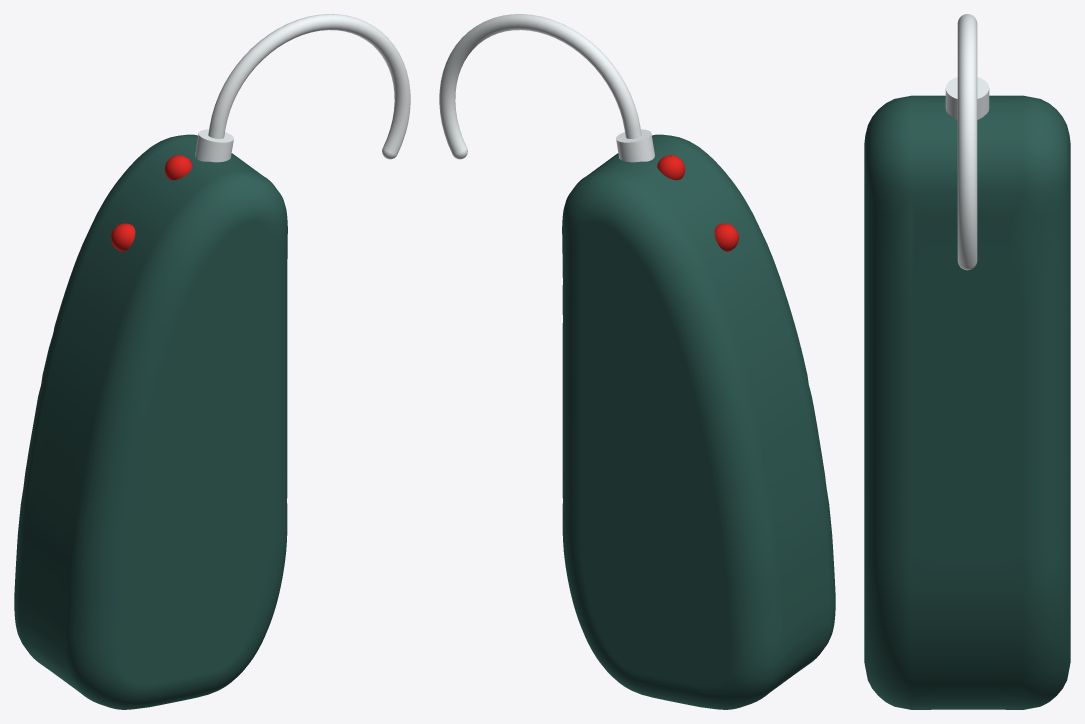
The model's file is equipo_AUDEO_ISPHERE.glb.
The picture shows the model from 3 angles, left to right: view 1: azimuth 30°, elevation 25°; view 2: azimuth 150°, elevation 25°; view 3: azimuth 270°, elevation 25°; orthographic projection. The views are drawn at different scales.
Visible parts, largest first — view 1: equipo_unidad, equipo_bateria, equipo_gancho, equipo_microfonos; view 2: equipo_unidad, equipo_bateria, equipo_gancho, equipo_microfonos; view 3: equipo_unidad, equipo_bateria, equipo_gancho.
Boxes of the visible parts, bbox=[...] form: equipo_unidad: bbox=[25, 134, 287, 524]; equipo_bateria: bbox=[14, 476, 287, 709]; equipo_gancho: bbox=[195, 14, 410, 162]; equipo_microfonos: bbox=[111, 155, 192, 251]; equipo_unidad: bbox=[562, 134, 824, 524]; equipo_bateria: bbox=[562, 476, 835, 709]; equipo_gancho: bbox=[439, 14, 654, 162]; equipo_microfonos: bbox=[657, 155, 738, 251]; equipo_unidad: bbox=[864, 95, 1070, 505]; equipo_bateria: bbox=[864, 486, 1070, 709]; equipo_gancho: bbox=[945, 14, 989, 270].
Bounding box in the file's own units: 23.62 × 38.48 × 9.5.
